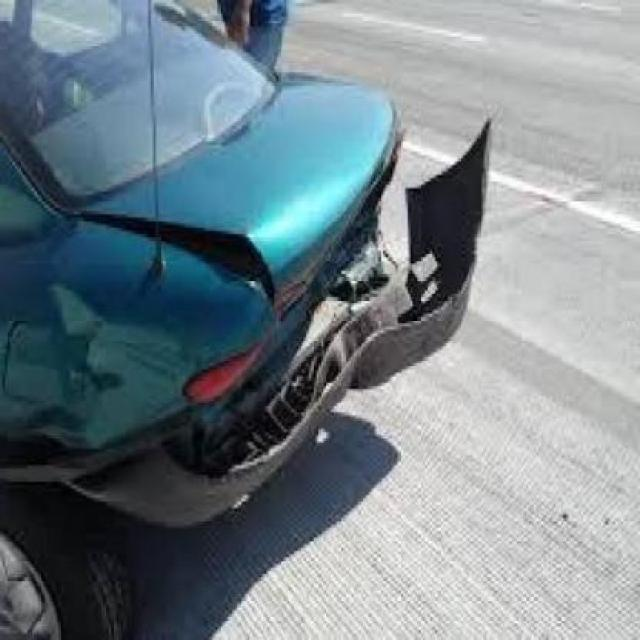damage: (2, 118, 496, 509)
